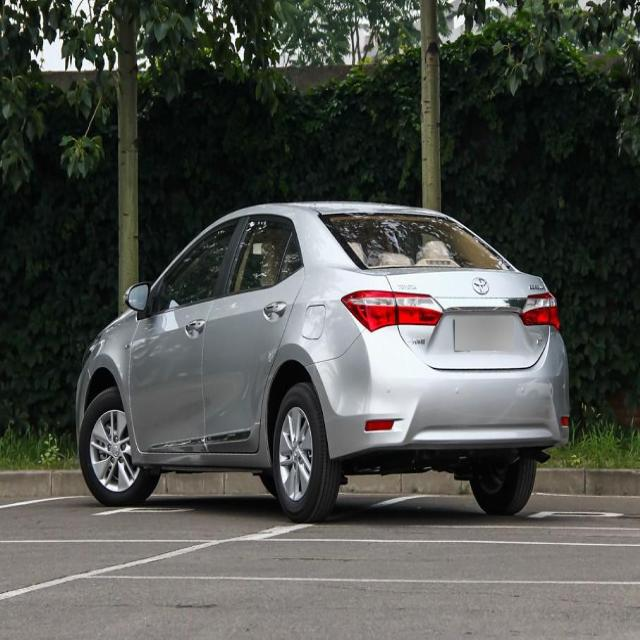back_glass: (321, 208, 508, 270)
back_left_side_light: (341, 288, 444, 334)
back_right_side_light: (520, 290, 561, 328)
door: (204, 217, 306, 459)
front_left_side_door: (128, 211, 246, 455)
front_left_side_mirror: (124, 278, 154, 320)
rear_bumper: (305, 326, 570, 461)
wheel: (80, 388, 153, 509), (275, 386, 330, 520), (467, 450, 535, 511)
